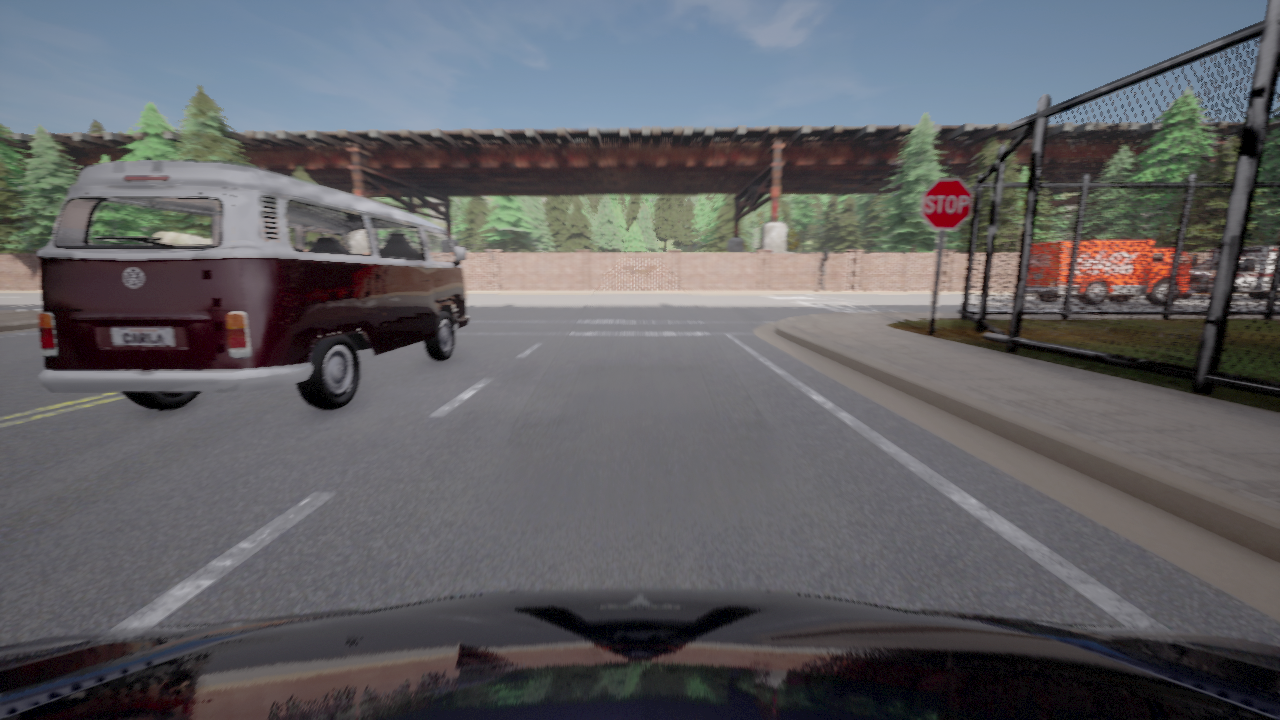cyclist: (0, 588, 1279, 719), (37, 161, 469, 410), (1025, 239, 1197, 304), (1179, 245, 1279, 298), (1071, 294, 1144, 297)
